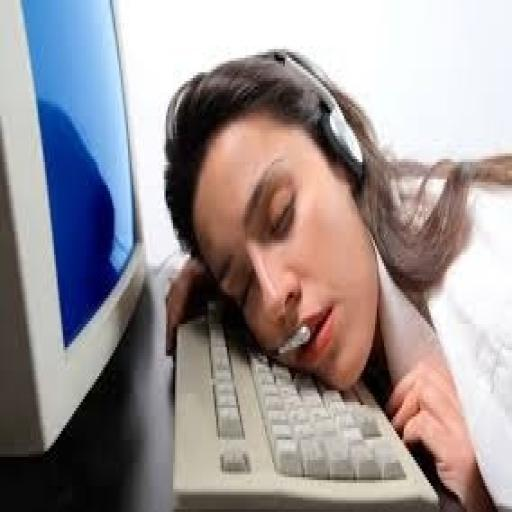sleeping: (161, 43, 510, 509)
